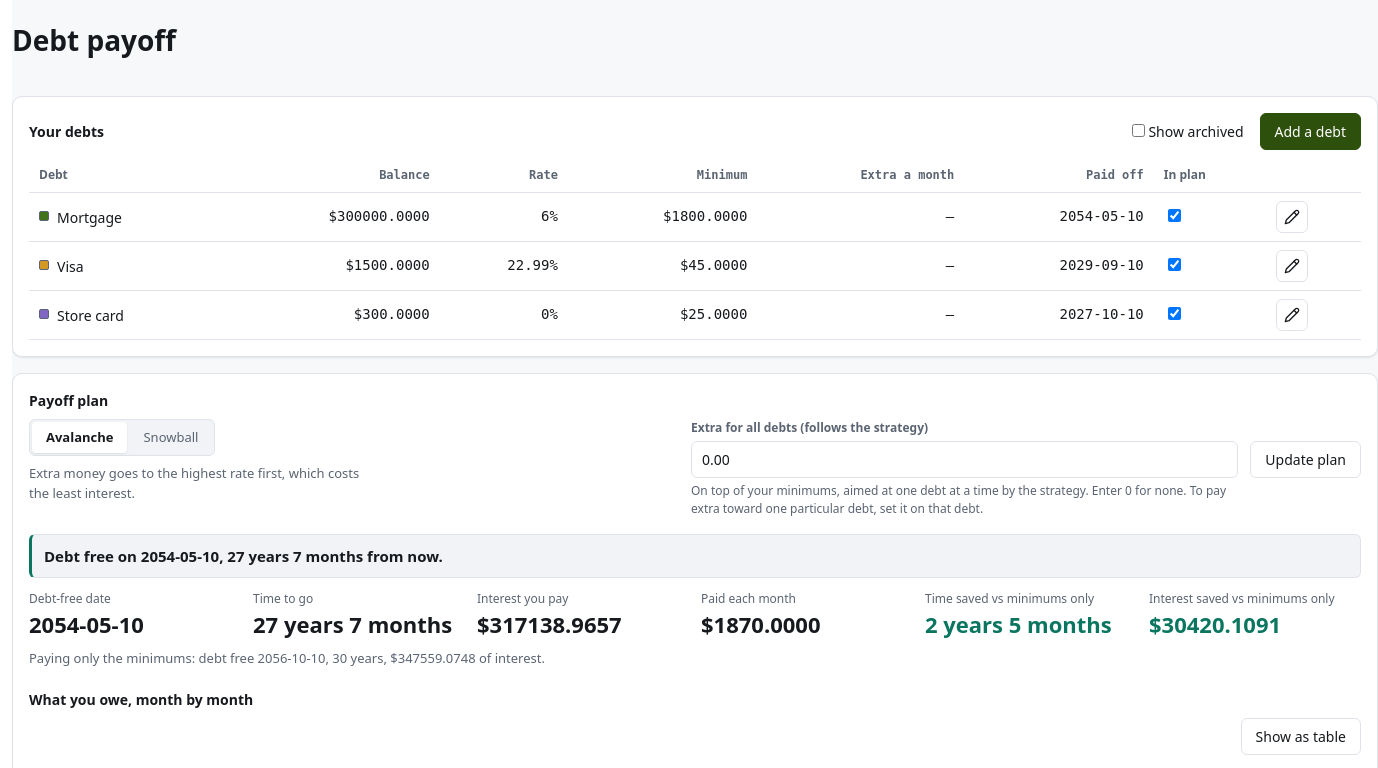
Test: leaving a debt out of the plan › saves at once, takes the debt out of the plan, and says what the date leaves out
Expected: the text "Debt free on 2054-05-10, 27 years 7 months from now." is shown, [29,534,1361,578]
Click the checkbox named "Include Mortgage in the payoff plan" at (1174, 216), box [1168,209,1181,222]
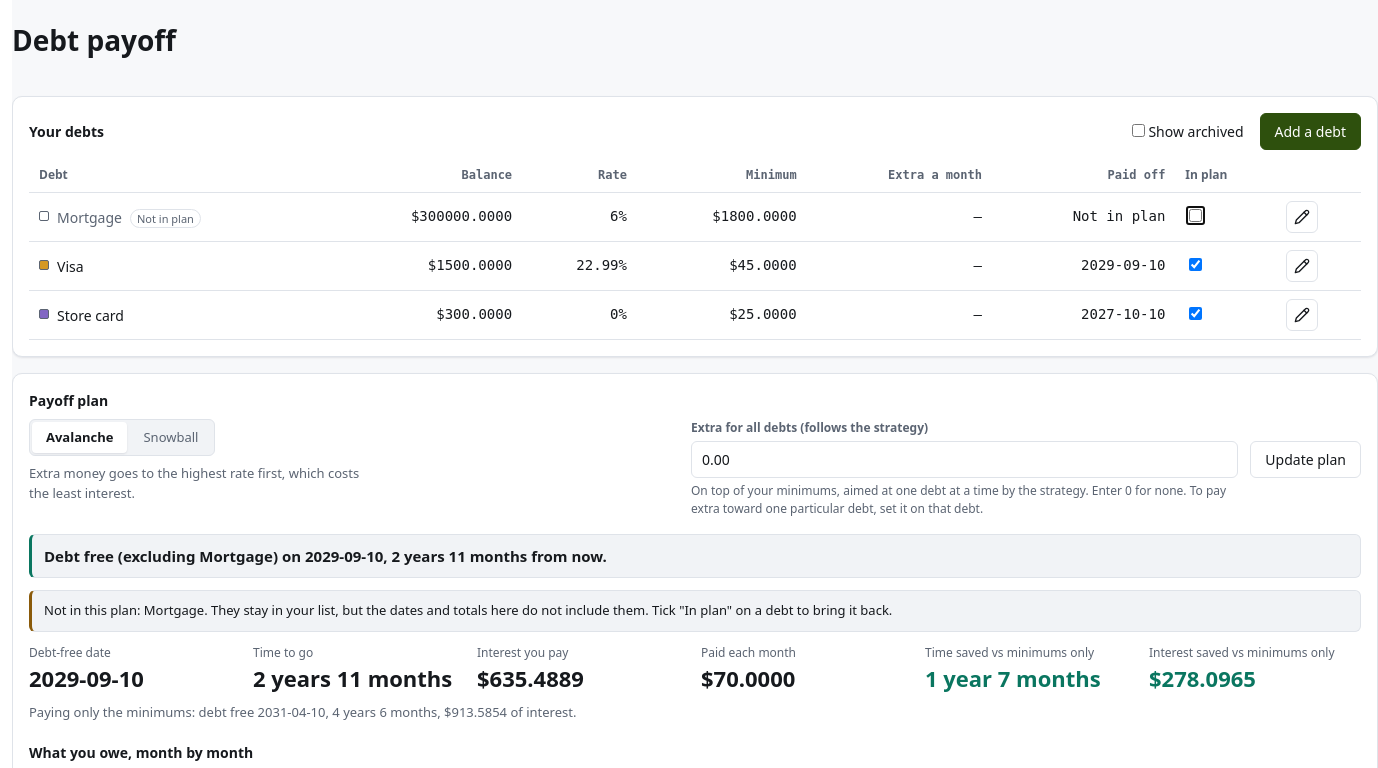
Result: the text "Debt free (excluding Mortgage) on 2029-09-10, 2 years 11 months from now." is shown at [29,534,1361,578]
Result: the text "Not in plan" is shown at [130,209,201,228]
Result: the text "Not in plan" is shown 2 times at [130,209,201,228]; [992,192,1175,241]
